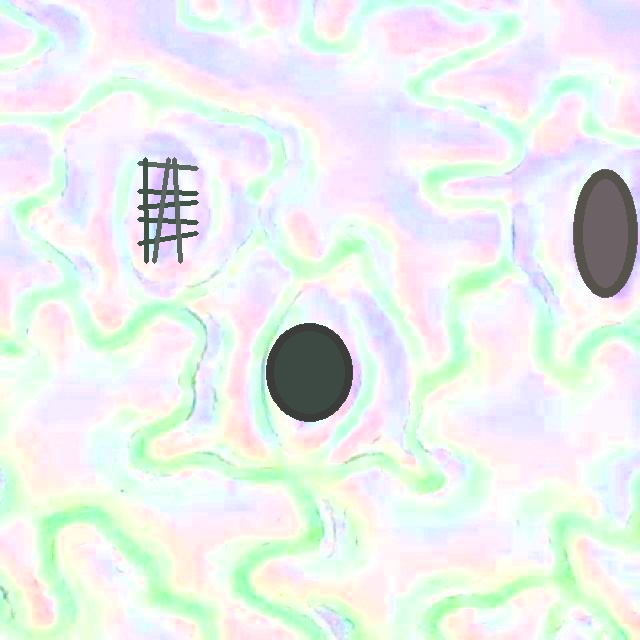open: (266, 323, 352, 420), (572, 169, 637, 297), (137, 157, 198, 263)
